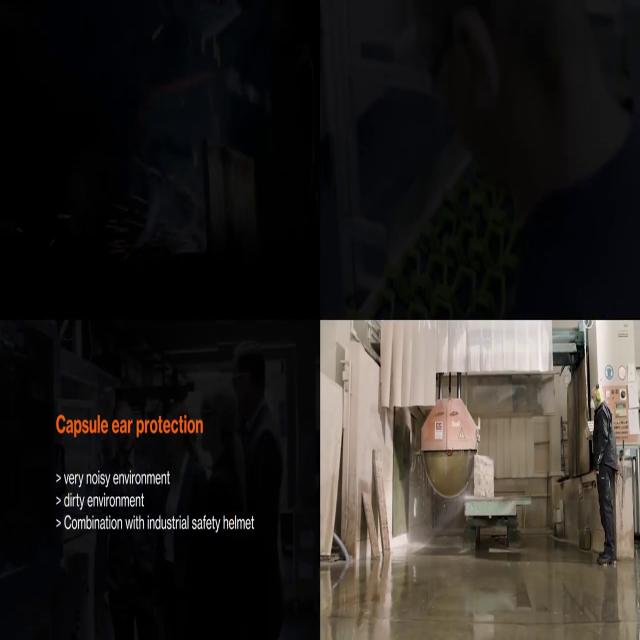earmuff: (596, 389, 602, 402)
glasses: (590, 395, 596, 399)
mask: (590, 399, 596, 410)
